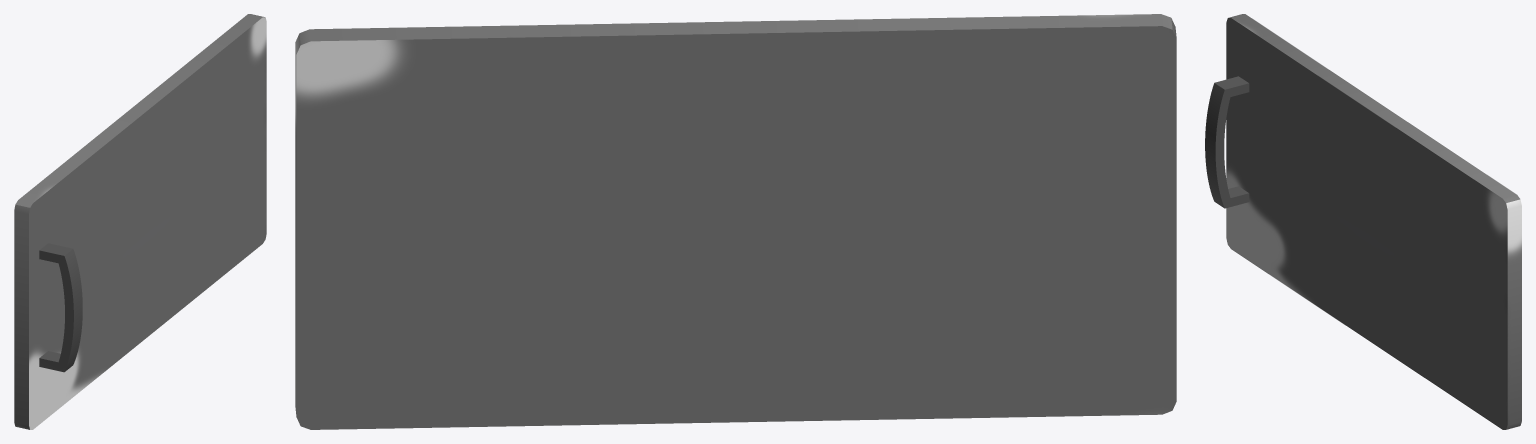
Rendered from BoxFuseDoor.fbx.
3 views of the same model, side by side, from view 1: azimuth 30°, elevation 25°; view 2: azimuth 150°, elevation 25°; view 3: azimuth 270°, elevation 25° (orthographic). The views are drawn at different scales.
Parts seen in each view (by area): view 1: BoxDoor; view 2: BoxDoor; view 3: BoxDoor.
Part boxes in pixels (bbox=[...]): BoxDoor: bbox=[14, 14, 266, 429]; BoxDoor: bbox=[295, 14, 1176, 429]; BoxDoor: bbox=[1205, 14, 1521, 429].
Bounding box in the file's own units: 142 × 80.41 × 99.85.
